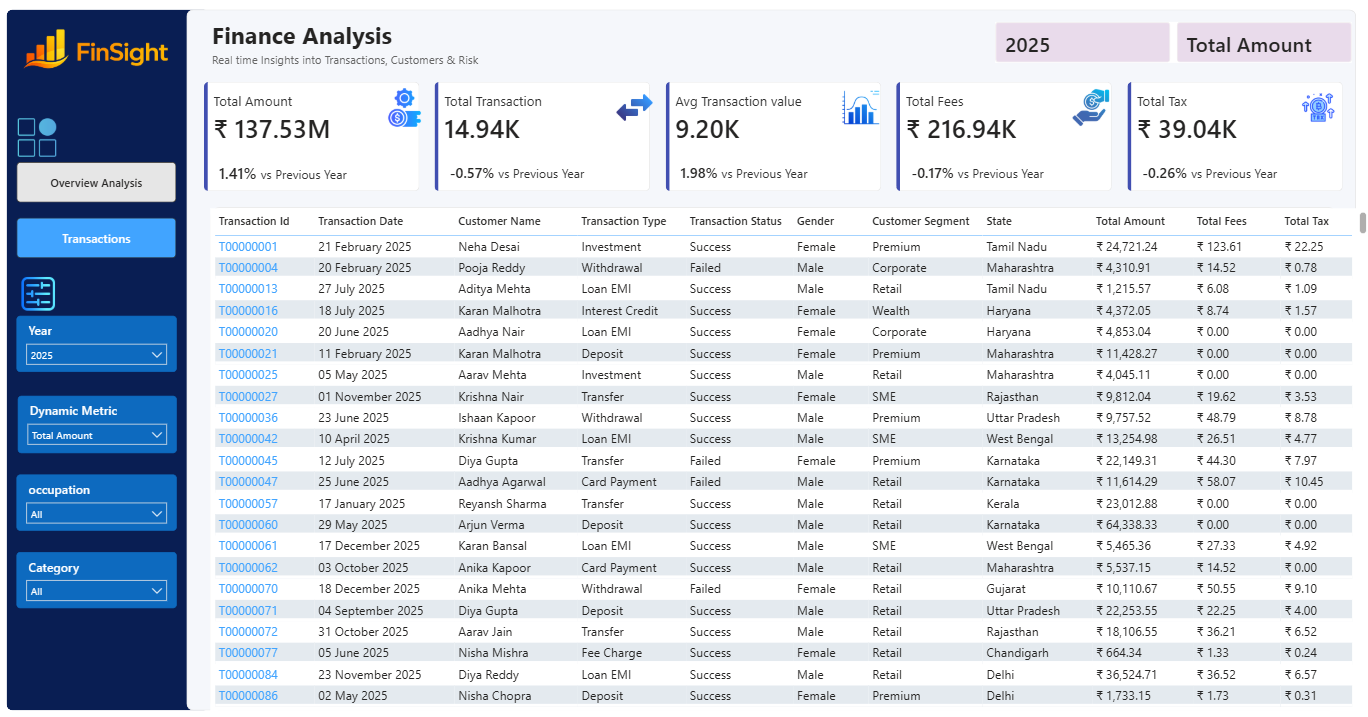

This screenshot's page, from the dashboard's own definition file:
{"tool":"powerbi","page":{"name":"Transactions","canvas":[1800,950],"ordinal":1},"visuals":[{"type":"shape","box":[16.9,16.9,266.1,916.9],"z":0},{"type":"shape","box":[252.5,16.9,1530,916.9],"z":1000},{"type":"image","box":[30.5,16.9,208.5,103.4],"z":2000},{"type":"cardVisual","fields":{"Data":["finance_transactions.Dashboard Title"]},"box":[268.2,16.4,385.9,88.3],"z":3000},{"type":"cardVisual","fields":{"Data":["finance_transactions.Total Amount","finance_transactions.Total Transaction","finance_transactions.Avg Transaction value","finance_transactions.Total Fees","finance_transactions.Total Tax"]},"box":[268.2,104.7,1502.7,155.3],"z":4000},{"type":"image","box":[511.8,119.4,50.7,50.7],"z":5000},{"type":"image","box":[812.7,119.4,50.7,50.7],"z":6000},{"type":"image","box":[1409.5,119.4,50.7,50.7],"z":7000},{"type":"image","box":[1108.7,119.4,50.7,50.7],"z":8000},{"type":"image","box":[1707.1,119.4,50.7,50.7],"z":9000},{"type":"shape","box":[282.9,274.7,1474.9,659],"z":10000},{"type":"cardVisual","fields":{"Data":["finance_transactions.Selected Year","finance_transactions.Selected Dynamic Measure"]},"box":[1304.9,27.8,477.5,63.8],"z":11000},{"type":"tableEx","fields":{"Values":["finance_transactions.transaction_id","finance_transactions.transaction_date","customers.customer_name","finance_transactions.transaction_type","finance_transactions.transaction_status","customers.gender","customers.customer_segment","customers.state","finance_transactions.Total Amount","finance_transactions.Total Fees","finance_transactions.Total Tax"]},"box":[282.9,276.3,1517.4,657.3],"z":12000},{"type":"slicer","fields":{"Values":["Calendar Table.Year"]},"box":[29.4,417,209.3,73.6],"z":14000},{"type":"slicer","fields":{"Values":["Dynamic Metric.Dynamic Metric"]},"box":[31.1,521.6,207.7,75.2],"z":15000},{"type":"slicer","fields":{"Values":["customers.occupation"]},"box":[29.4,624.6,209.3,73.6],"z":16000},{"type":"slicer","fields":{"Values":["finance_transactions.merchant_category"]},"box":[29.4,726,209.3,73.6],"z":17000},{"type":"image","box":[32.7,363,50.7,50.7],"z":18000},{"type":"pageNavigator","box":[29.4,215.8,209.3,127.5],"z":18001},{"type":"image","box":[31.1,158.6,50.7,50.7],"z":18002}]}

Visuals, with their boxes on the page's 1800x950 design canvas (x1, y1, x2, y2). These are canvas units, not pixel positions in the 1368x717 screenshot, which may show the page scaled, cropped or inside an application window:
shape: box=[17, 17, 283, 934]
shape: box=[252, 17, 1782, 934]
image: box=[30, 17, 239, 120]
cardVisual - finance_transactions.Dashboard Title: box=[268, 16, 654, 105]
cardVisual - finance_transactions.Total Amount x finance_transactions.Total Transaction: box=[268, 105, 1771, 260]
image: box=[512, 119, 562, 170]
image: box=[813, 119, 863, 170]
image: box=[1410, 119, 1460, 170]
image: box=[1109, 119, 1159, 170]
image: box=[1707, 119, 1758, 170]
shape: box=[283, 275, 1758, 934]
cardVisual - finance_transactions.Selected Year x finance_transactions.Selected Dynamic Measure: box=[1305, 28, 1782, 92]
tableEx - finance_transactions.transaction_id x finance_transactions.transaction_date: box=[283, 276, 1800, 934]
slicer - Calendar Table.Year: box=[29, 417, 239, 491]
slicer - Dynamic Metric.Dynamic Metric: box=[31, 522, 239, 597]
slicer - customers.occupation: box=[29, 625, 239, 698]
slicer - finance_transactions.merchant_category: box=[29, 726, 239, 800]
image: box=[33, 363, 83, 414]
pageNavigator: box=[29, 216, 239, 343]
image: box=[31, 159, 82, 209]
